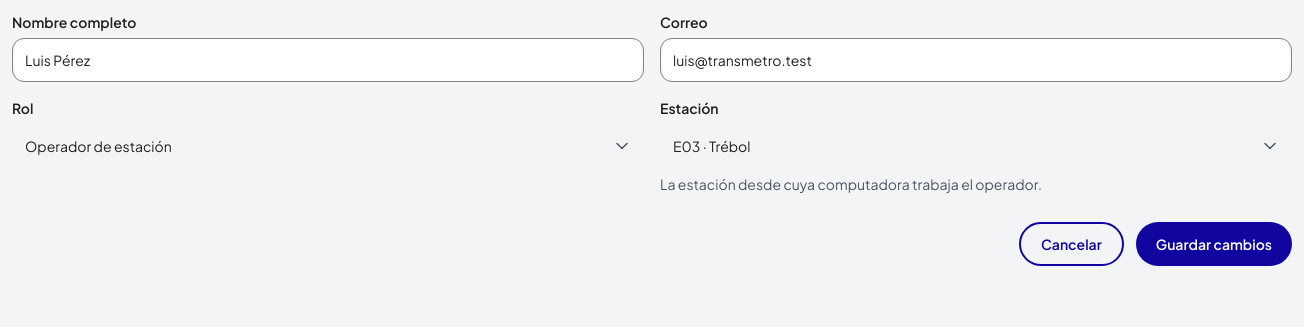
Test: FormularioUsuario › al editar un operador que pasa a supervisor ya no envía su estación
Expected: the dropdown labelled "Estación" shows "E03 · Trébol", [660, 124, 1292, 168]
Select "Supervisor municipal" in the dropdown labelled "Rol": {"x": 328, "y": 146} [12, 124, 644, 168]
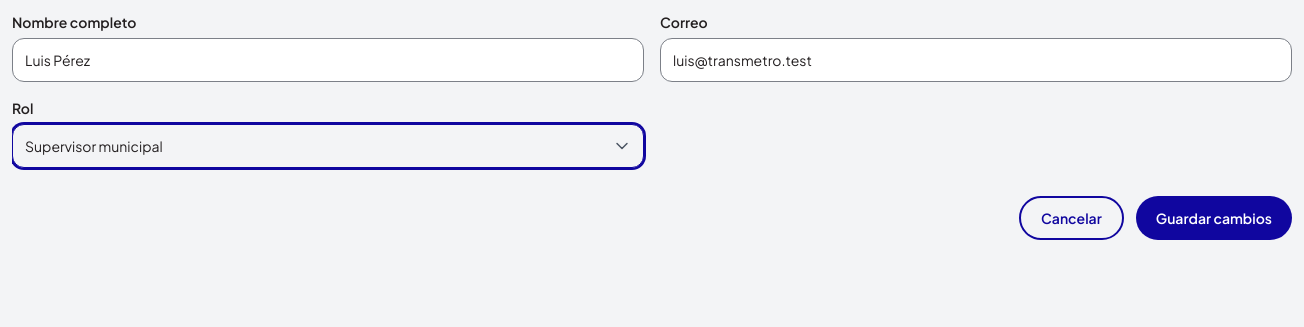
Click the button "Guardar cambios": {"x": 1214, "y": 218} [1136, 196, 1292, 240]
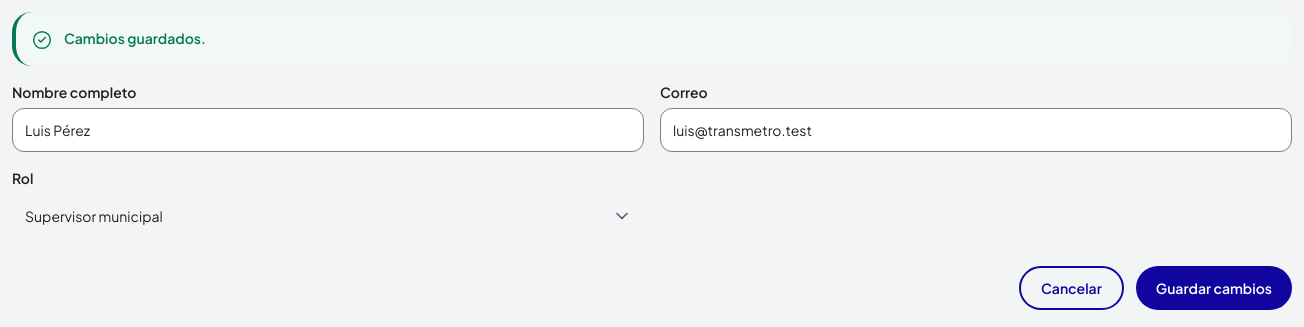
Now the text "Cambios guardados." is shown, box [64, 28, 206, 48]
